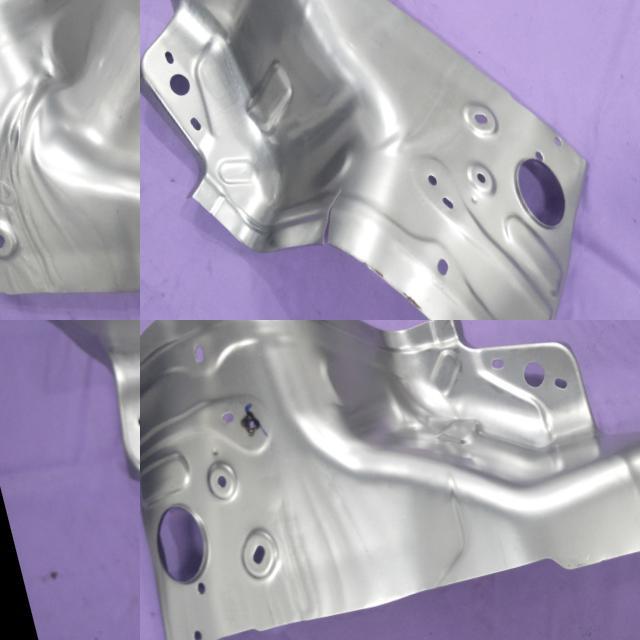Defect: (293, 176, 363, 252)
Healthy: (140, 320, 640, 640)
rust: (354, 235, 439, 320)
